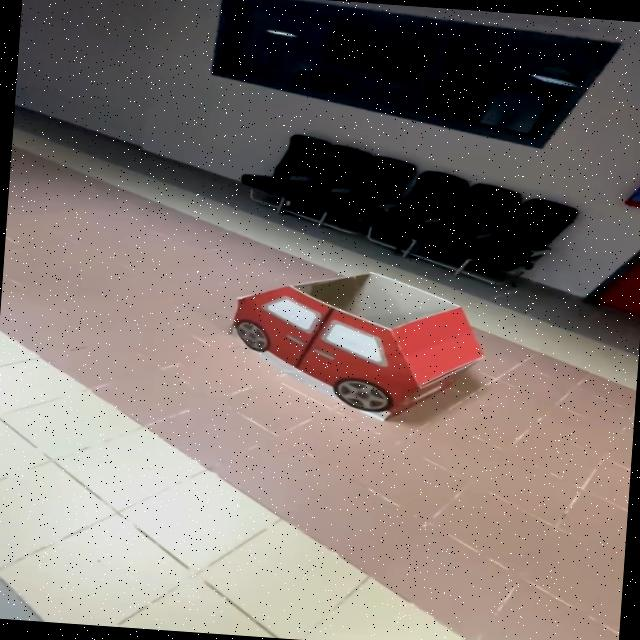red_car: (198, 246, 509, 441)
